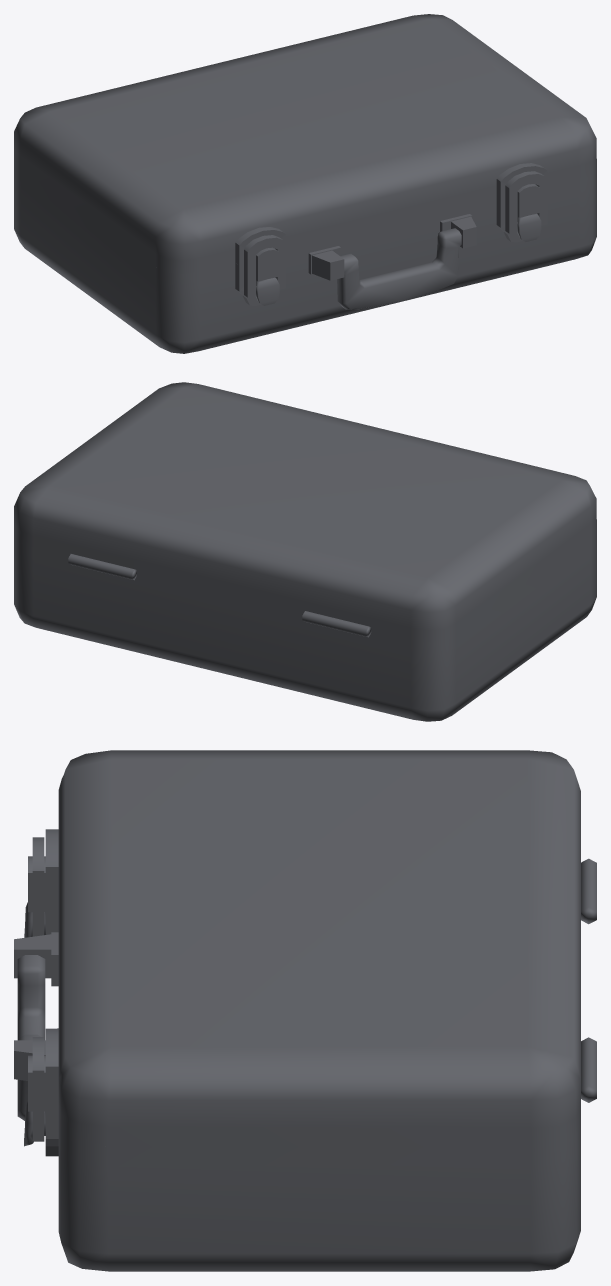
The model's file is FtrDuralumincase.glb.
3 views of the same model, one above another, from view 1: azimuth 30°, elevation 25°; view 2: azimuth 150°, elevation 25°; view 3: azimuth 270°, elevation 25° (orthographic). The views are drawn at different scales.
Visible parts, largest first — view 1: cover_lock_L_low__mReBody; view 2: cover_lock_L_low__mReBody; view 3: cover_lock_L_low__mReBody.
Boxes of the visible parts, <box> form: cover_lock_L_low__mReBody: <box>14,14,596,353</box>; cover_lock_L_low__mReBody: <box>14,382,596,721</box>; cover_lock_L_low__mReBody: <box>14,750,596,1271</box>.
Size of the model in its own units: 7.16 by 2.19 by 5.31.
Materials: 1 (1 with a texture image).
